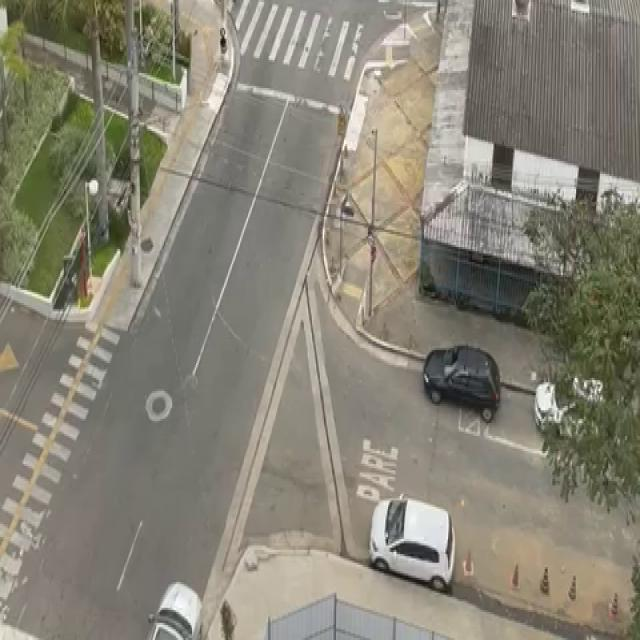car: (356, 485, 454, 595), (526, 369, 635, 448), (413, 343, 505, 414), (129, 561, 211, 640)
